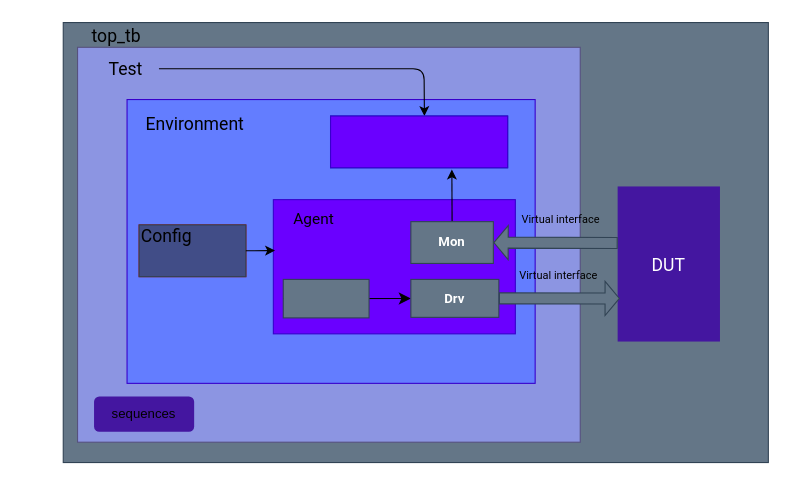
The diagram is 788 pixels wide and 482 high, and some of its shapes have lost their labels. The centre of each missing label's shape, as x and y in pixels:
Scoreboard: (418,141)
Seqr: (325,298)
